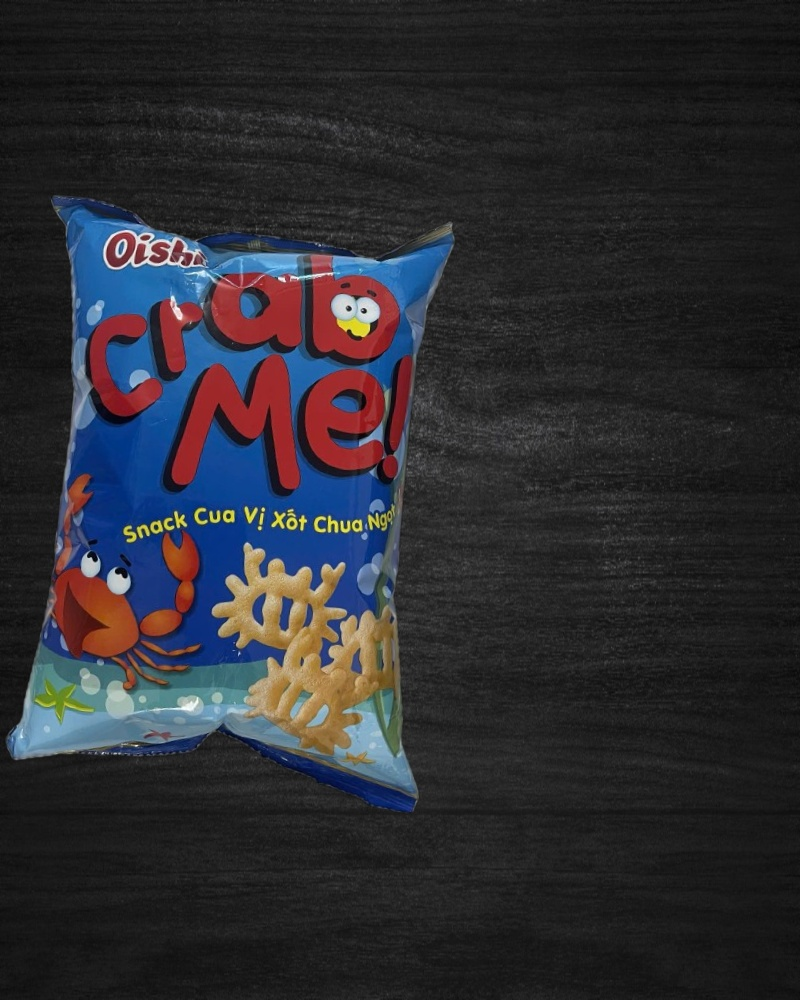Snack chay: (1, 187, 469, 816)
